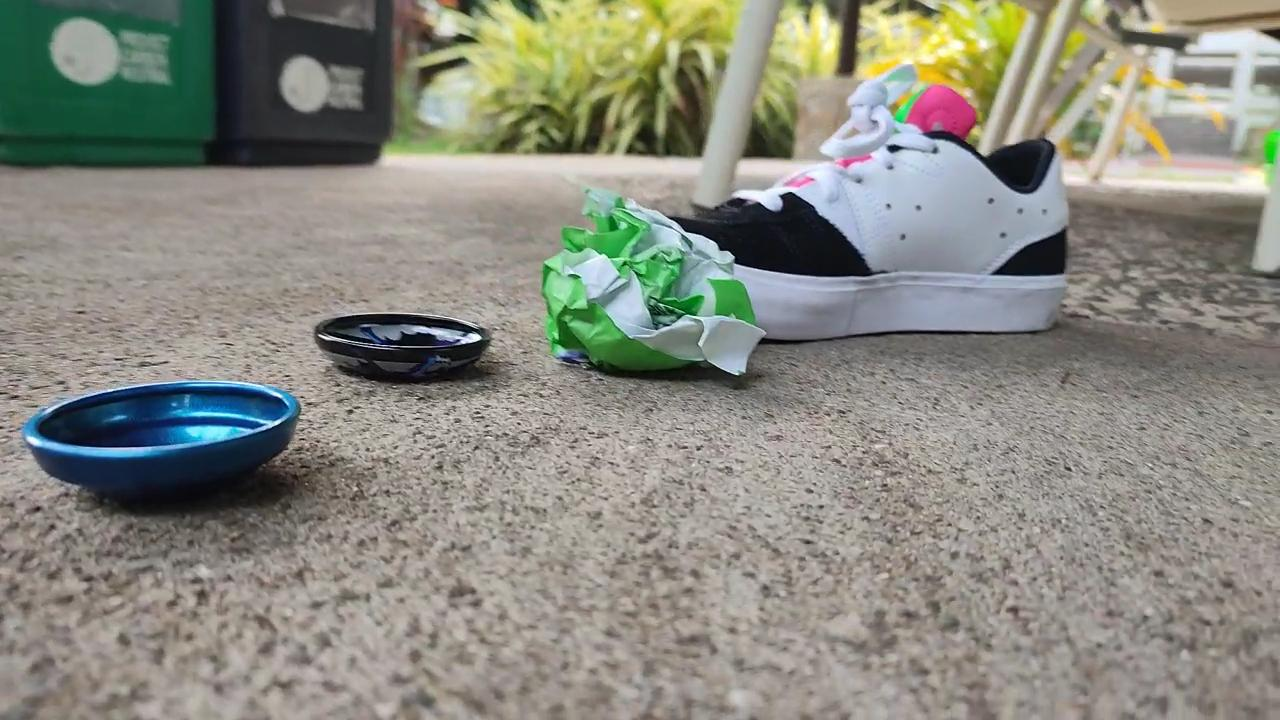Paper: (527, 177, 772, 395)
